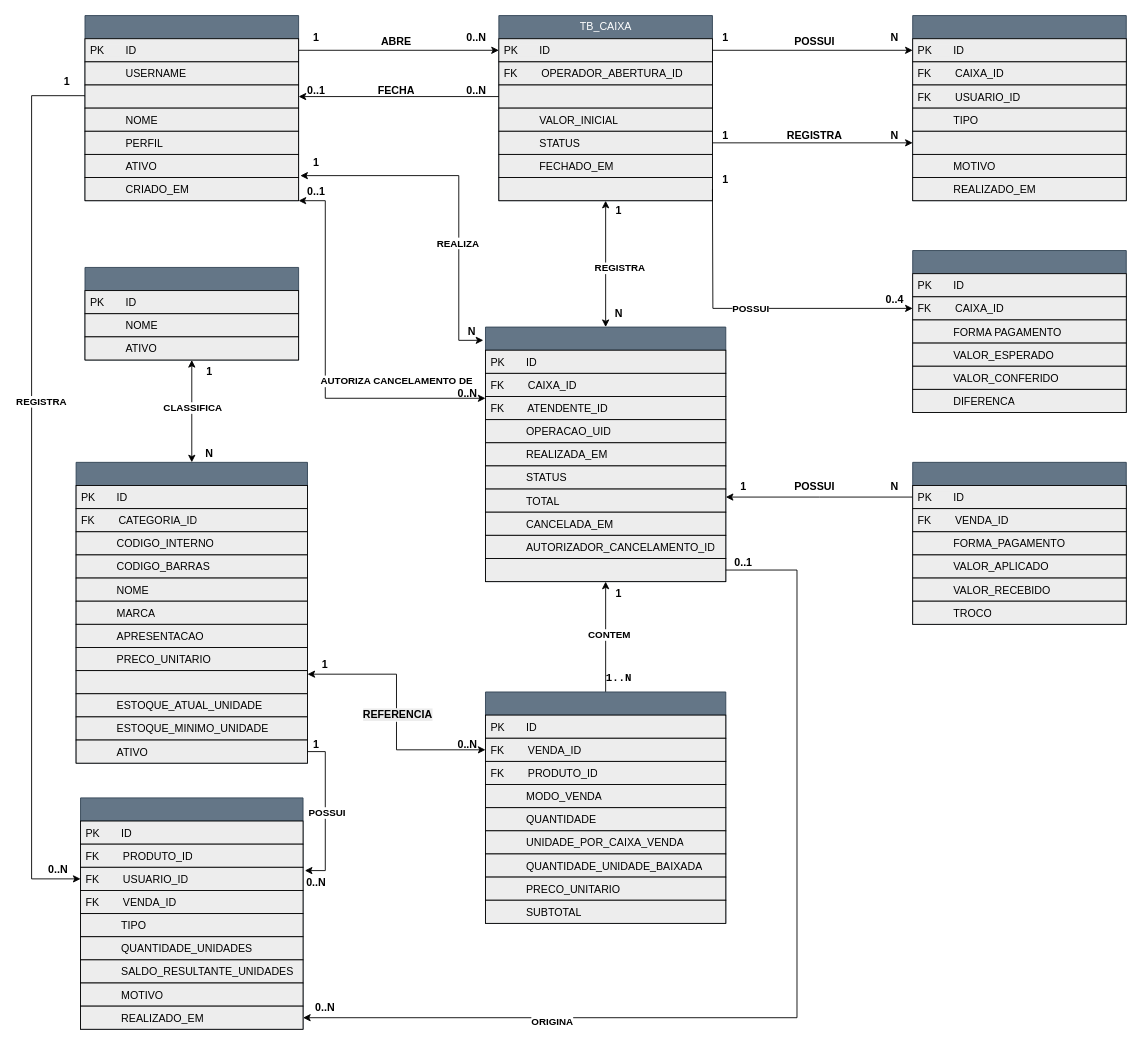
Some shapes in this 1142 by 1048 pixel diagram are drawn without their labels. Here are the shapes that lost their labels. From the top down, the box of each, then its label:
(84, 84, 299, 108): SENHA
(84, 15, 299, 201): TB_USUARIO
(498, 84, 712, 108): ABERTO_EM
(912, 15, 1126, 201): TB_MOVIMENTACAO_CAIXA
(912, 130, 1126, 154): VALOR
(498, 177, 712, 201): FK OPERADOR_FECHAMENTO_ID
(84, 267, 299, 360): TB_CATEGORIA
(912, 250, 1126, 413): TB_CONFERENCIA_CAIXA
(485, 326, 726, 582): TB_VENDA
(912, 461, 1126, 624): TB_PAGAMENTO
(485, 558, 726, 582): MOTIVO_CANCELAMENTO
(75, 461, 307, 763): TB_PRODUTO
(75, 670, 307, 694): UNIDADE_POR_CAIXA
(485, 691, 726, 923): TB_ITEM_VENDA
(80, 797, 303, 1029): TB_MOVIMENTACAO_ESTOQUE
